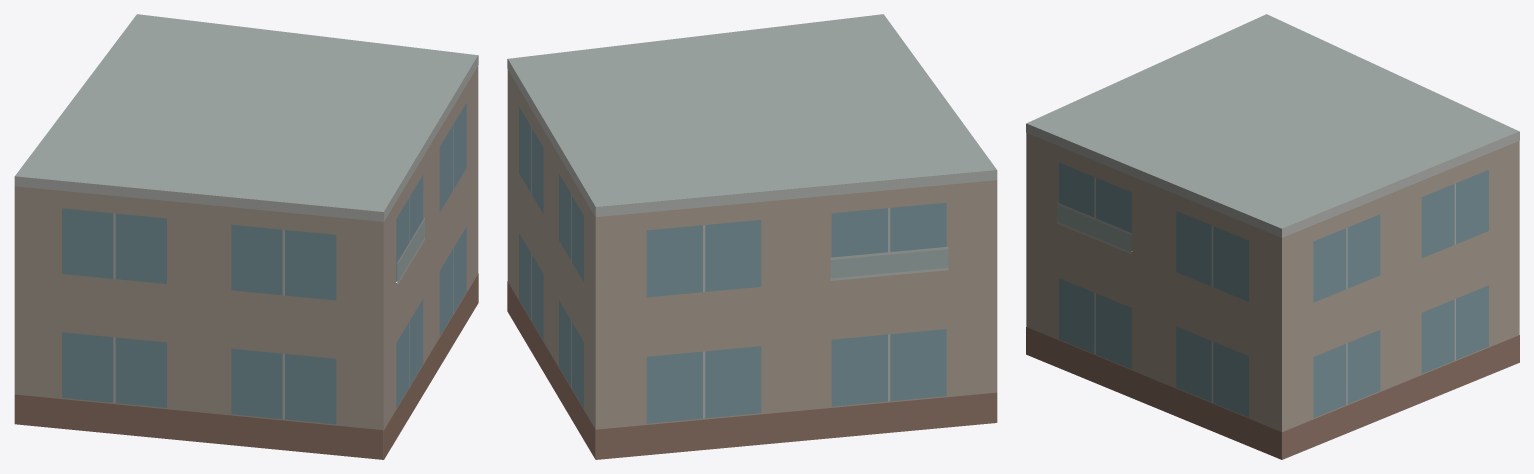
File: survey-upis-32821262.glb
3 views of the same model, side by side, from view 1: azimuth 30°, elevation 25°; view 2: azimuth 150°, elevation 25°; view 3: azimuth 270°, elevation 25° (orthographic). The views are drawn at different scales.
Visible parts, largest first — view 1: survey-upis-32821262.tmp; view 2: survey-upis-32821262.tmp; view 3: survey-upis-32821262.tmp.
Boxes of the visible parts, x1=… form: survey-upis-32821262.tmp: x1=14, y1=14, x2=478, y2=459; survey-upis-32821262.tmp: x1=507, y1=14, x2=997, y2=459; survey-upis-32821262.tmp: x1=1026, y1=14, x2=1519, y2=459.
Size of the model in its own units: 12.16 by 6.1 by 11.81.
